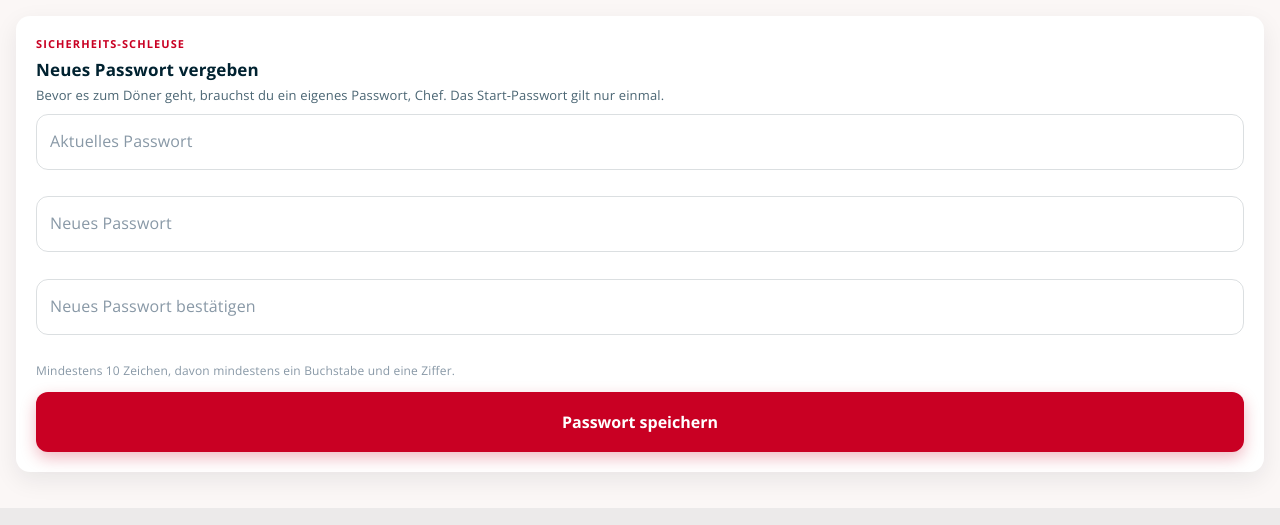
Test: ChangePasswordForm — self-service flow › rendert das Feld 'Aktuelles Passwort' und verlangt es, wenn mustChangePassword=false
The image size is (1280, 525).
Check: the password field labelled "Aktuelles Passwort" is shown, box x1=36 y1=114 x2=1244 y2=170
Type "ganzNeuesPw7" into the password field labelled "Neues Passwort" at (640,224), box x1=36 y1=196 x2=1244 y2=252
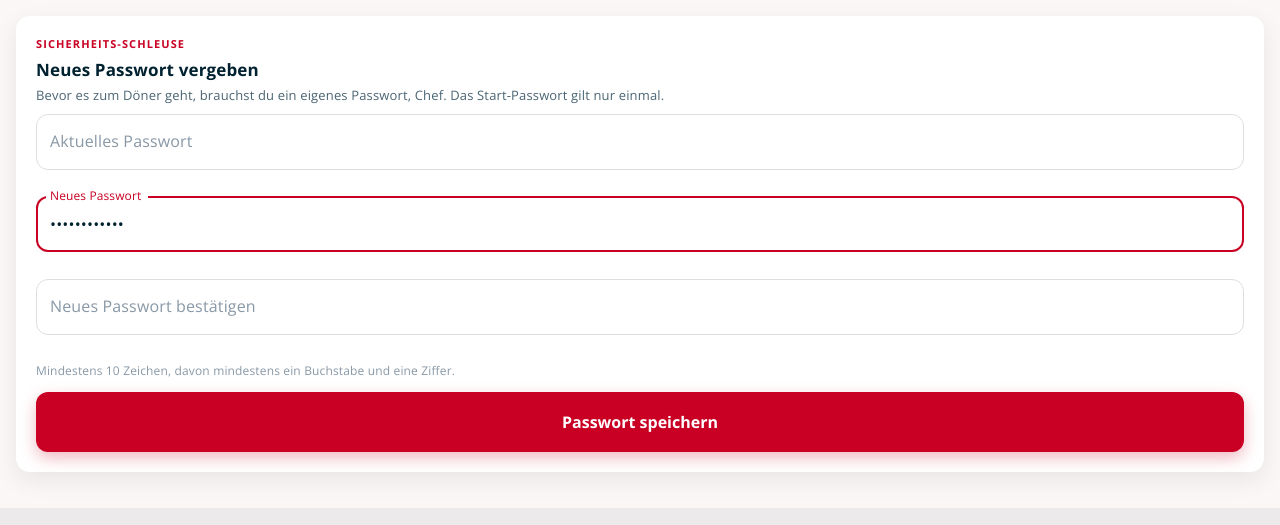
Type "ganzNeuesPw7" into the password field labelled "Neues Passwort bestätigen" at (640,307), box x1=36 y1=279 x2=1244 y2=335
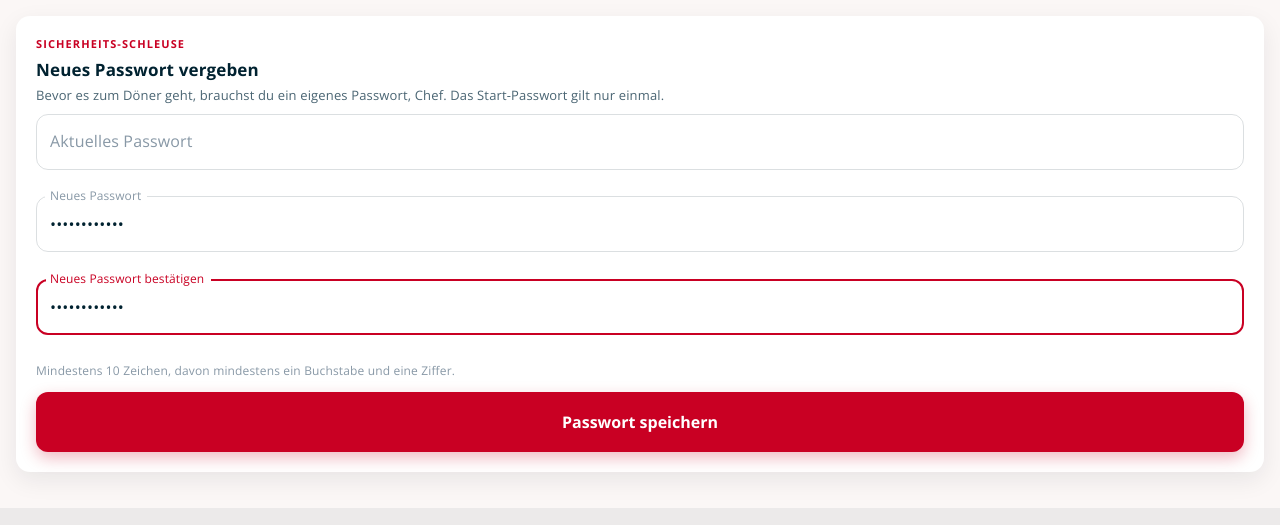
Click the button "Passwort speichern" at (640,422), box x1=36 y1=392 x2=1244 y2=452
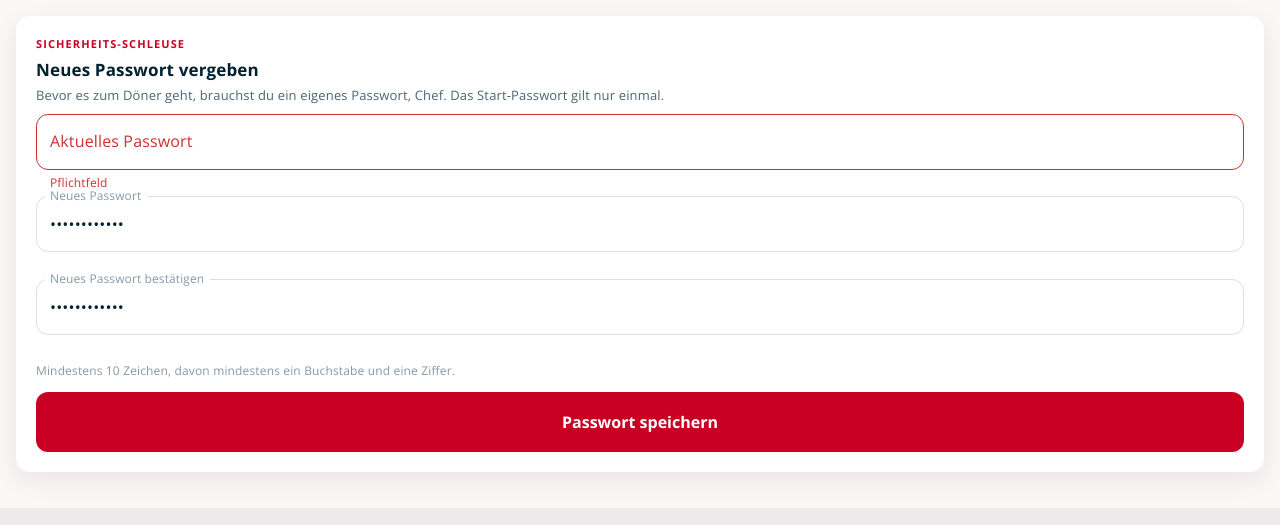
Check: the text "Pflichtfeld" is shown, box x1=50 y1=174 x2=108 y2=190
